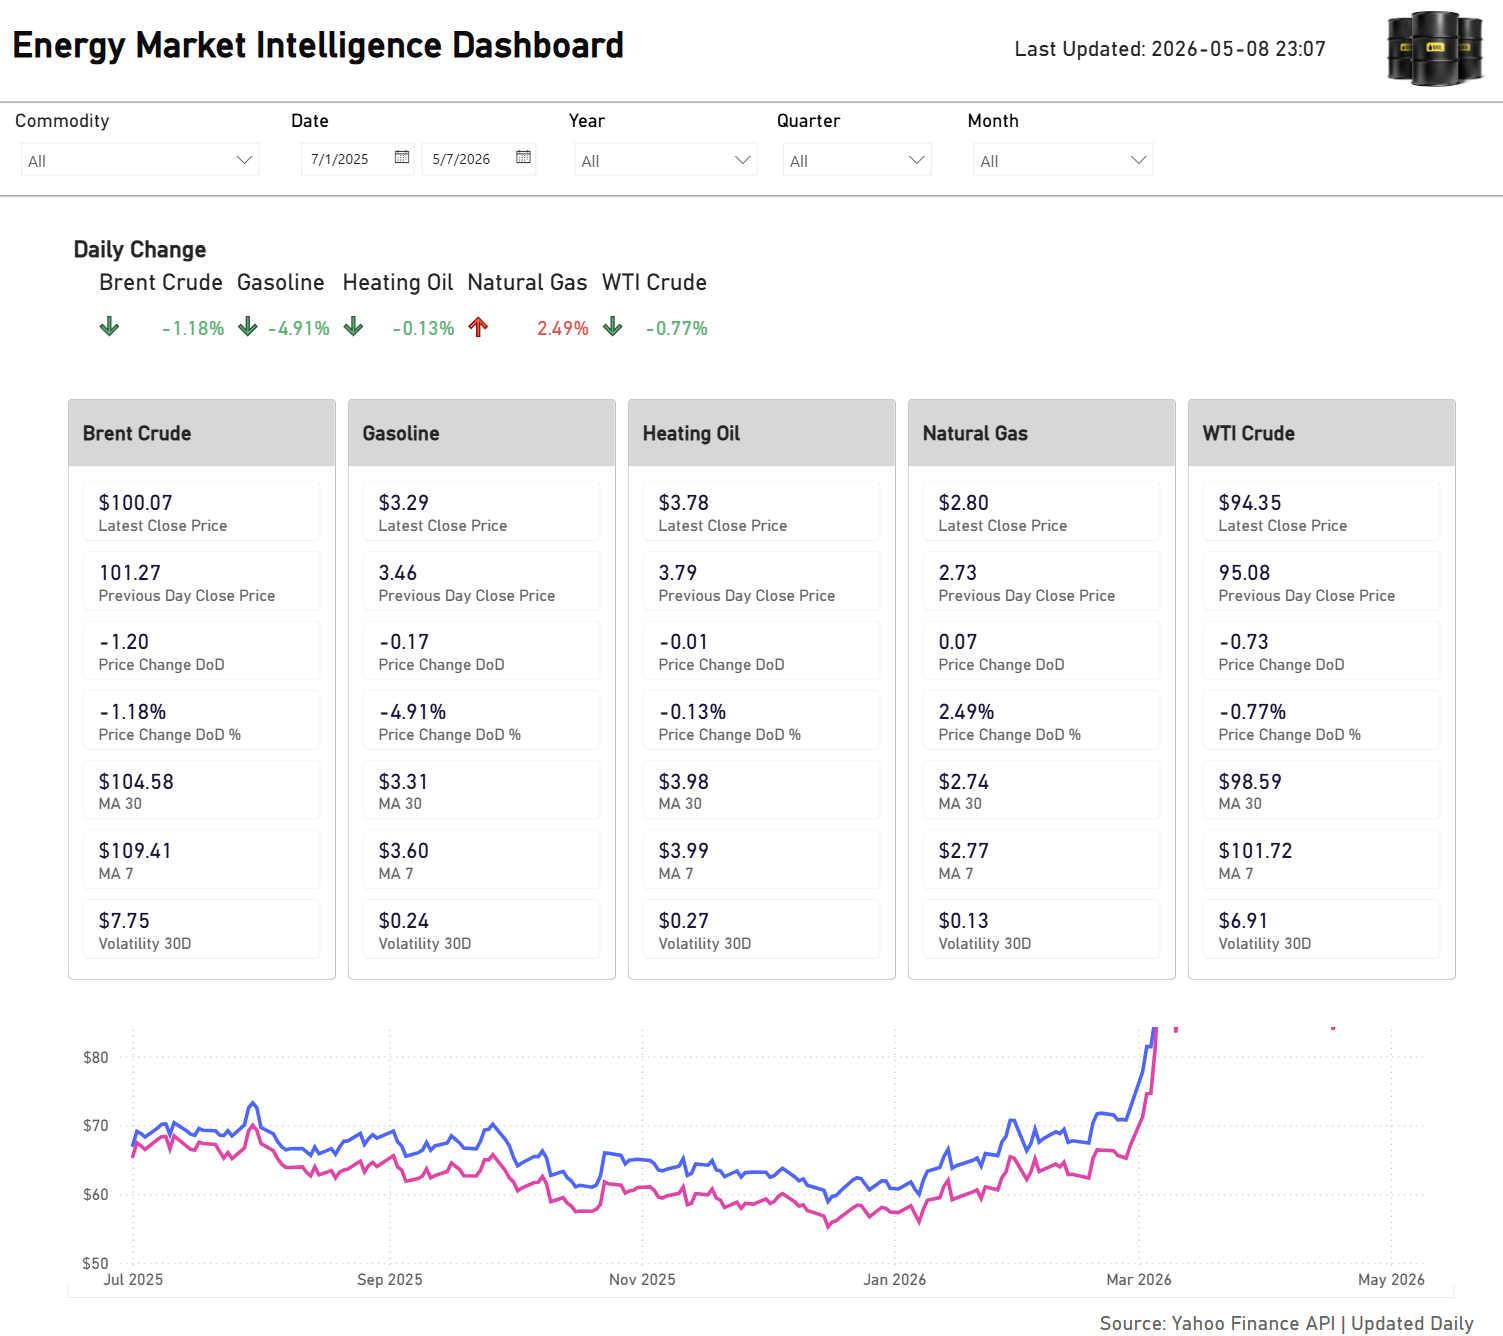

The dashboard page shown, as its layout file describes it:
{"tool":"powerbi","page":{"name":"Executive Overview","canvas":[1280,1400],"ordinal":0},"visuals":[{"type":"shape","box":[0,167,1280,1233],"z":0},{"type":"image","box":[1126.2,0,153.8,90],"z":1000},{"type":"shape","box":[0,0,1280,90],"z":2000},{"type":"shape","box":[0,88.8,1280,79],"z":3000},{"type":"cardVisual","fields":{"Data":["Indicators.Latest Close Price","Indicators.Previous Day Price","Indicators.Price Change DoD","Indicators.Price Change DoD %","Indicators.MA 30","Indicators.MA 7","Indicators.Volatility 30D"],"Rows":["dim_commodity.commodity_name"]},"box":[36.7,331.3,1210,494.4],"z":4000},{"type":"lineChart","title":"WTI vs Brent Crude Oil Close Price Trend","fields":{"Series":["dim_commodity.commodity_name"],"Category":["dim_date.full_date.Variation.Date Hierarchy.Year","dim_date.full_date.Variation.Date Hierarchy.Quarter","dim_date.full_date.Variation.Date Hierarchy.Month","dim_date.full_date.Variation.Date Hierarchy.Day"],"Y":["Indicators.Close Price"]},"box":[61.3,860.2,1156.2,493.8],"z":5000},{"type":"slicer","title":"Date","fields":{"Values":["dim_date.full_date"]},"box":[242.8,94.7,218.3,63.3],"z":6000},{"type":"slicer","title":"Commodity","fields":{"Values":["dim_commodity.commodity_name"]},"box":[12,94.7,218.6,62.9],"z":7000},{"type":"textbox","title":"Energy Market Intelligence Dashboard","box":[10,23.3,531.1,38.9],"z":8000},{"type":"slicer","title":"Year","fields":{"Values":["dim_date.full_date.Variation.Date Hierarchy.Year"]},"box":[473.8,95,172.5,62.5],"z":9000},{"type":"slicer","title":"Quarter","fields":{"Values":["dim_date.full_date.Variation.Date Hierarchy.Quarter"]},"box":[647.2,95,143.8,62.5],"z":10000},{"type":"slicer","title":"Month","fields":{"Values":["dim_date.full_date.Variation.Date Hierarchy.Month"]},"box":[806,95,170,62.5],"z":11000},{"type":"pivotTable","title":"Daily Change","fields":{"Values":["Indicators.Price Change DoD %"],"Columns":["dim_commodity.commodity_name"]},"box":[61.7,200,1170,120],"z":12000},{"type":"cardVisual","fields":{"Data":["Indicators.Last Refresh"]},"box":[821.2,15,331.2,57.5],"z":13000},{"type":"textbox","title":"Source: Yahoo Finance API | Updated Daily","box":[916.7,1365,358.3,28.3],"z":14000}]}

Visuals, with their boxes on the page's 1280x1400 design canvas (x1, y1, x2, y2). These are canvas units, not pixel positions in the 1503x1336 screenshot, which may show the page scaled, cropped or inside an application window:
shape: left=0, top=167, right=1280, bottom=1400
image: left=1126, top=0, right=1280, bottom=90
shape: left=0, top=0, right=1280, bottom=90
shape: left=0, top=89, right=1280, bottom=168
cardVisual - Indicators.Latest Close Price x Indicators.Previous Day Price: left=37, top=331, right=1247, bottom=826
"WTI vs Brent Crude Oil Close Price Trend" lineChart: left=61, top=860, right=1218, bottom=1354
"Date" slicer: left=243, top=95, right=461, bottom=158
"Commodity" slicer: left=12, top=95, right=231, bottom=158
"Energy Market Intelligence Dashboard" textbox: left=10, top=23, right=541, bottom=62
"Year" slicer: left=474, top=95, right=646, bottom=158
"Quarter" slicer: left=647, top=95, right=791, bottom=158
"Month" slicer: left=806, top=95, right=976, bottom=158
"Daily Change" pivotTable: left=62, top=200, right=1232, bottom=320
cardVisual - Indicators.Last Refresh: left=821, top=15, right=1152, bottom=72
"Source: Yahoo Finance API | Updated Daily" textbox: left=917, top=1365, right=1275, bottom=1393
